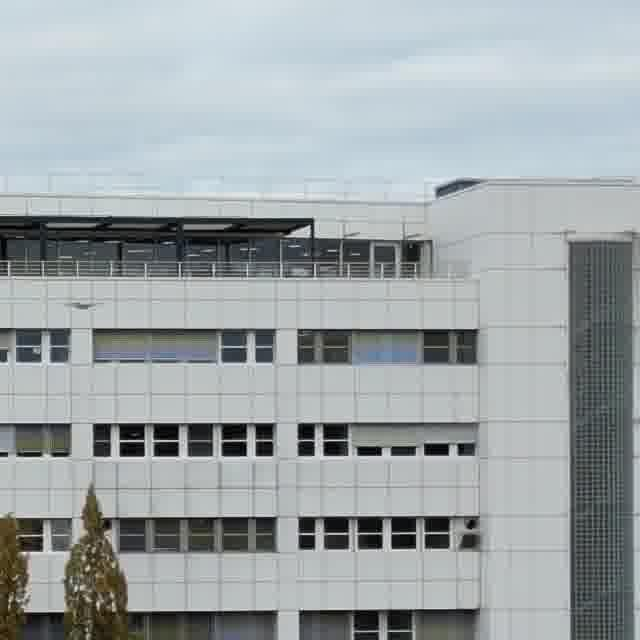Drohne: (70, 302, 95, 309)
